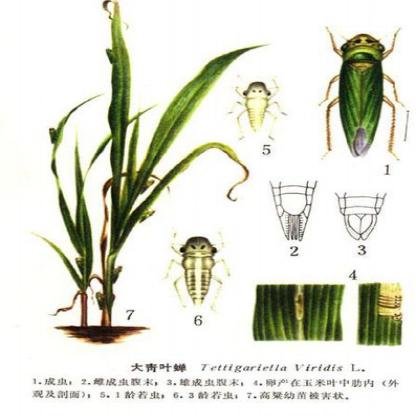Green-Leafhopper: (319, 21, 404, 160), (224, 76, 295, 142), (168, 233, 230, 306)
